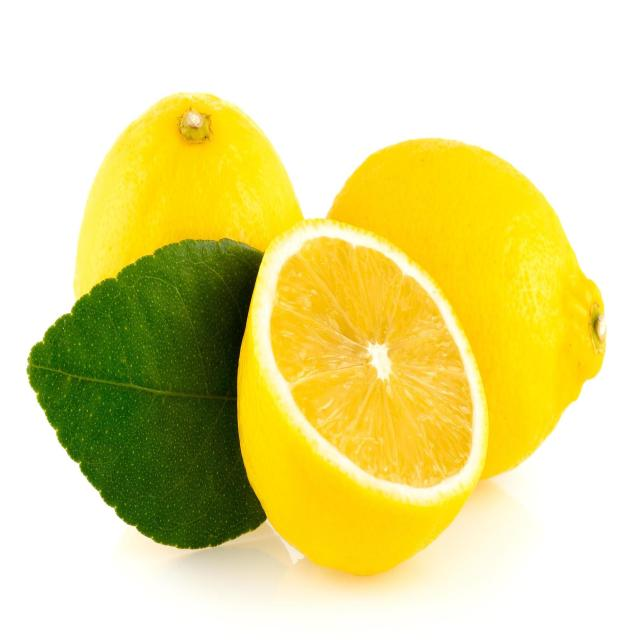lemon: (230, 211, 496, 586)
